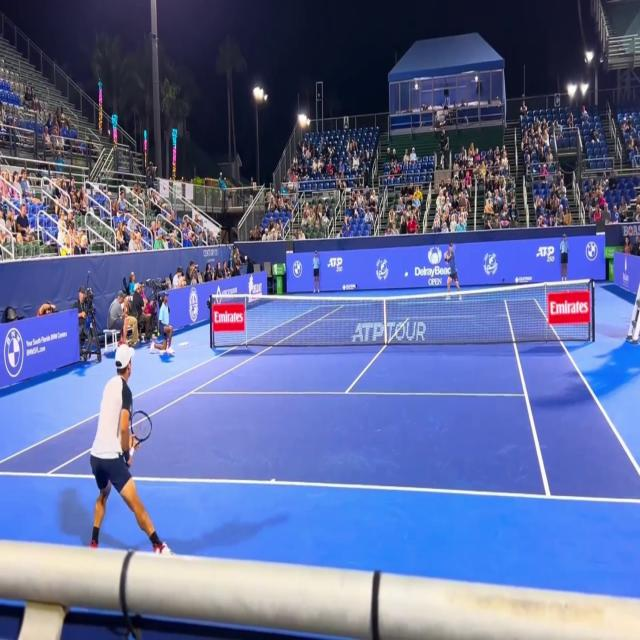tennisBall: (402, 270, 410, 280)
